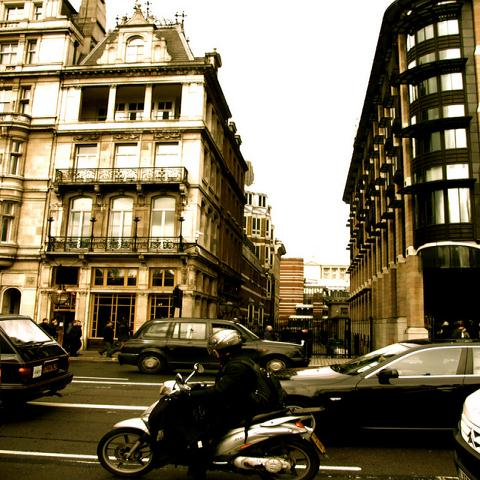car: (277, 336, 479, 442), (117, 319, 305, 378), (2, 316, 74, 411), (450, 386, 479, 480)
motorcycle: (93, 366, 323, 477)
